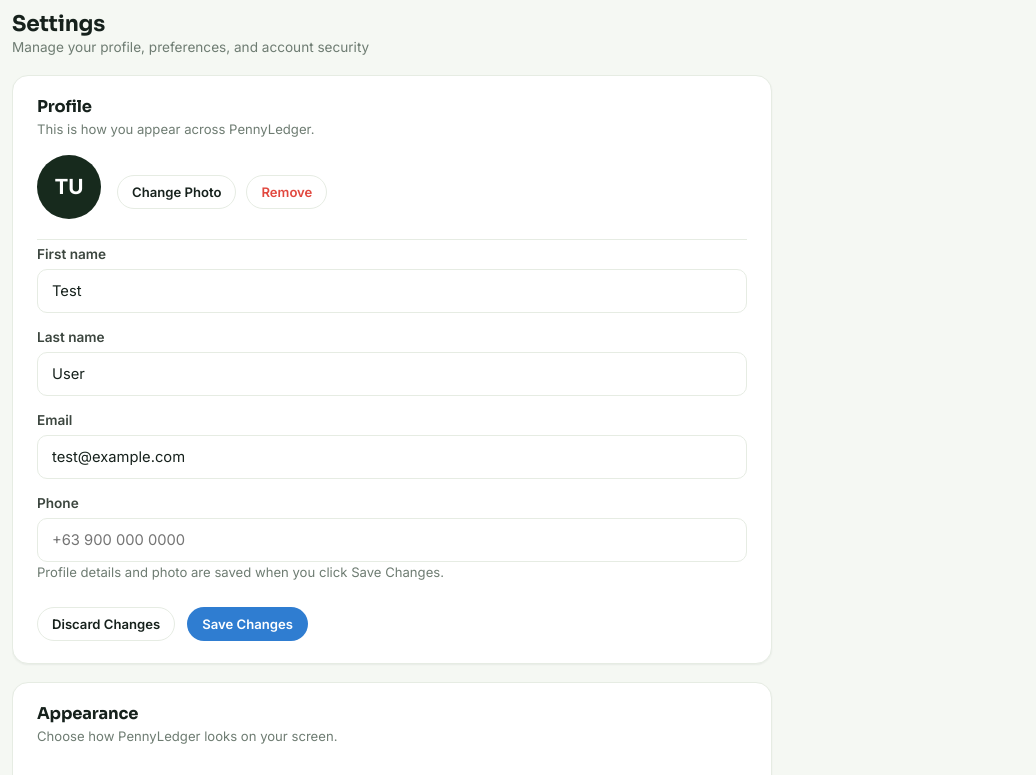
Test case: shows server errors beside the profile field and retains the entered value
Replace the text in the field labelled "Email" with "taken@example.com" at (392, 457), box [37,435,747,479]
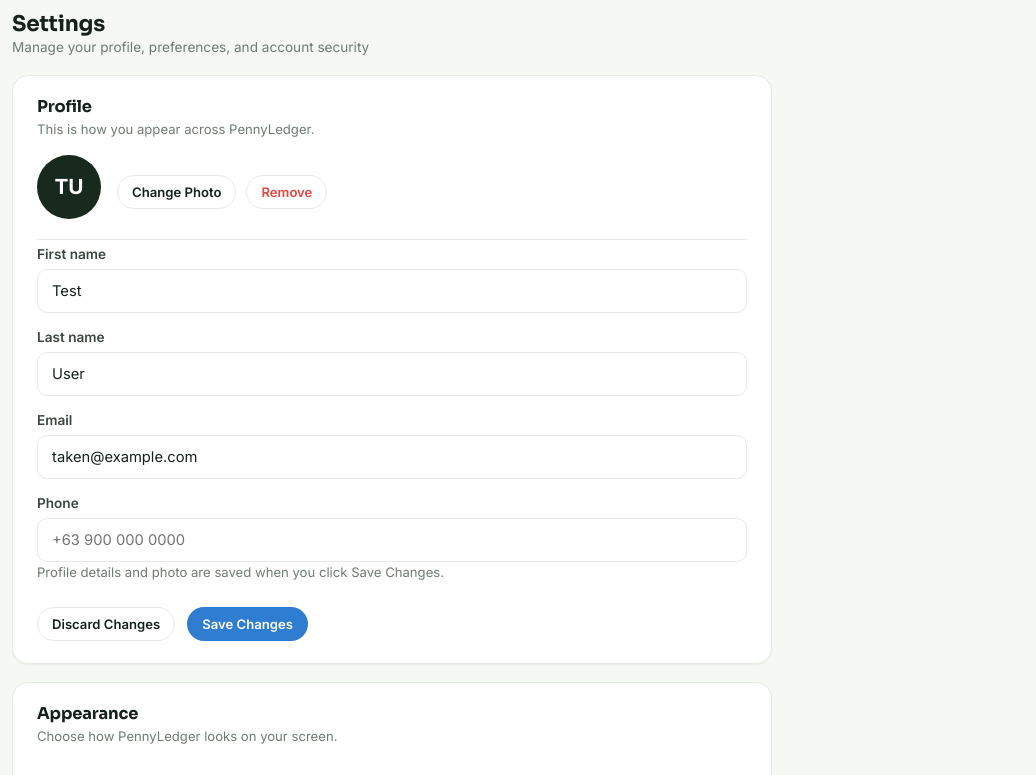
Click the button "Save Changes".
click(248, 624)  # box [187,607,308,641]
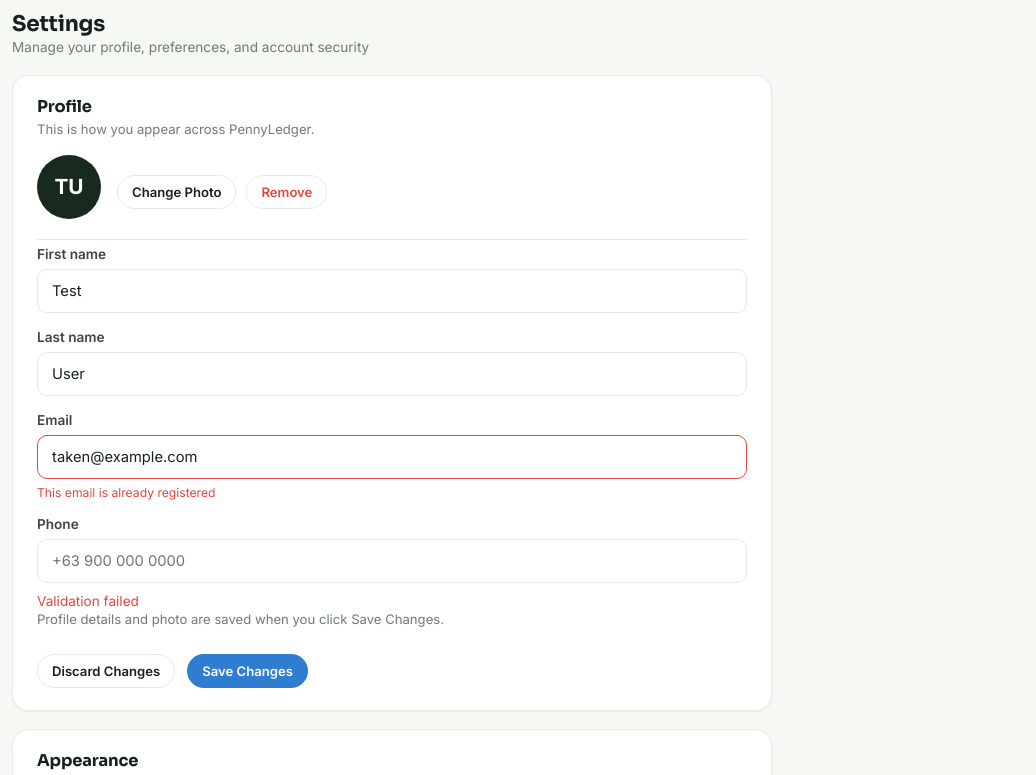
Result: the text "This email is already registered" is shown at [37,485,216,500]
